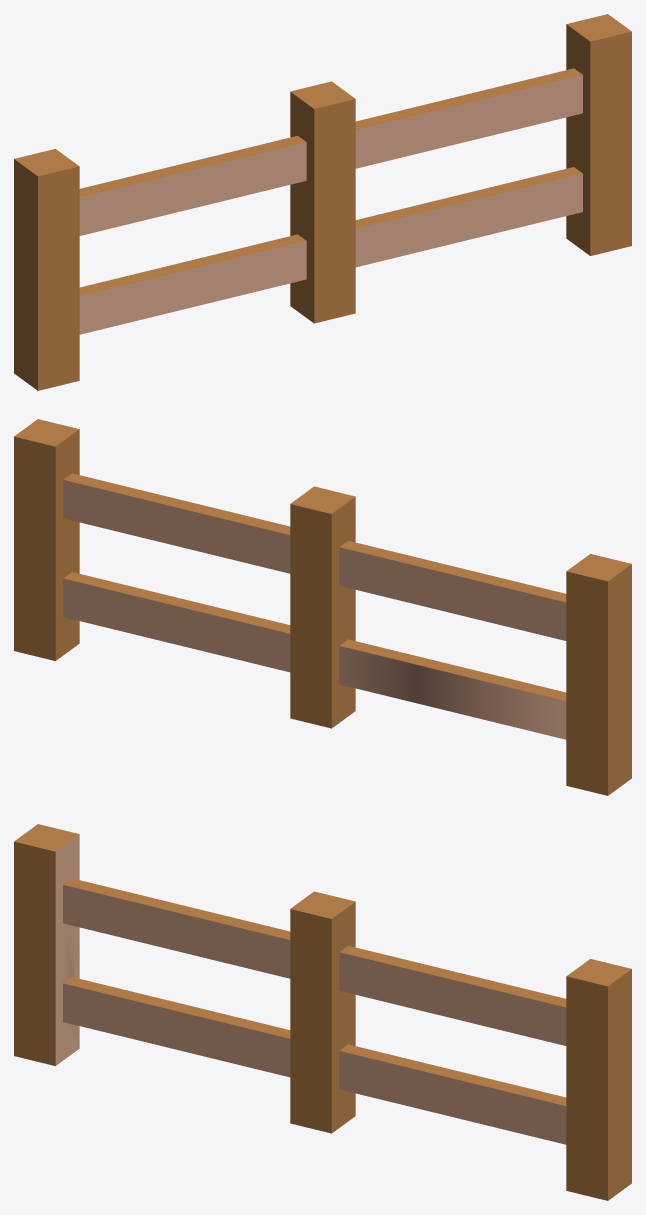
Rendered from fence_simpleCenter.glb.
The picture shows the model from 3 angles, top to bottom: view 1: azimuth 30°, elevation 25°; view 2: azimuth 150°, elevation 25°; view 3: azimuth 330°, elevation 25°; orthographic projection.
Parts seen in each view (by area): view 1: fence_simpleCenter; view 2: fence_simpleCenter; view 3: fence_simpleCenter.
Part boxes in pixels (bbox=[...]): fence_simpleCenter: bbox=[14, 14, 631, 390]; fence_simpleCenter: bbox=[14, 419, 631, 795]; fence_simpleCenter: bbox=[14, 824, 631, 1200].
Bounding box in the file's own units: 1 × 0.345 × 0.07.
